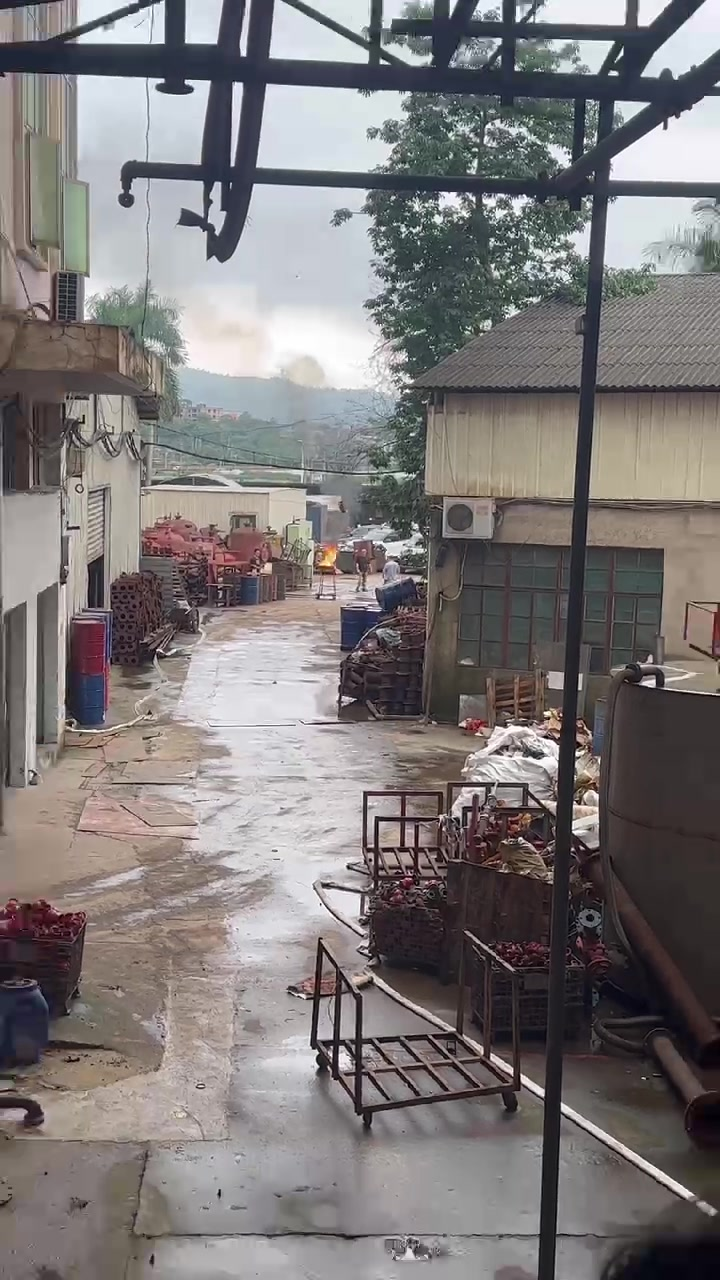fire: (318, 544, 335, 566)
